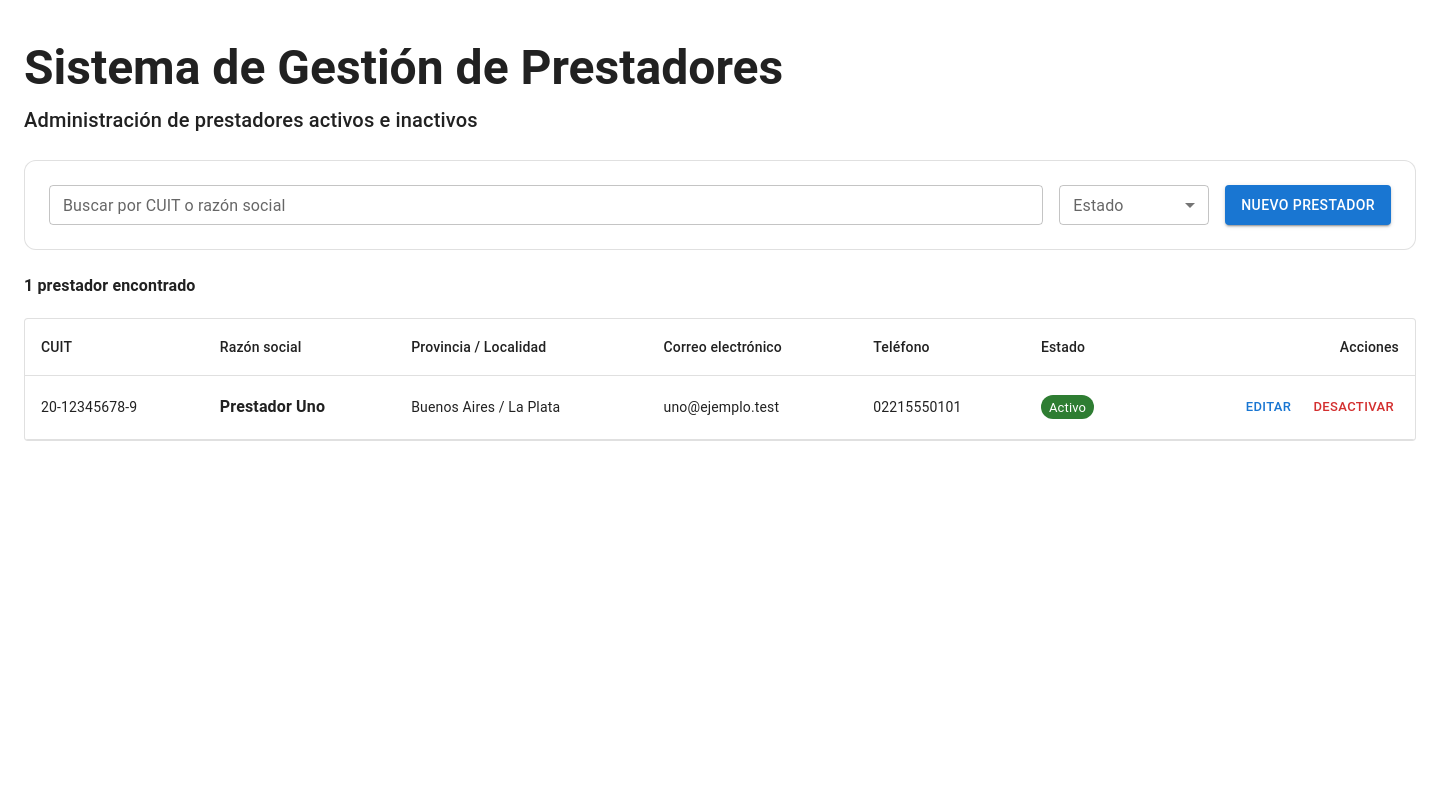
Gestión de prestadores › abre edición con valores precargados
The width and height of the screenshot is (1440, 810).
Check: the text "1 prestador encontrado" is shown, box [24,276,196,295]
What coordinates should you click on to do the following:
click the button with aria-label "Editar Prestador Uno"
I would click on:
 (1268, 407)
Its box is [1236,392,1300,423].
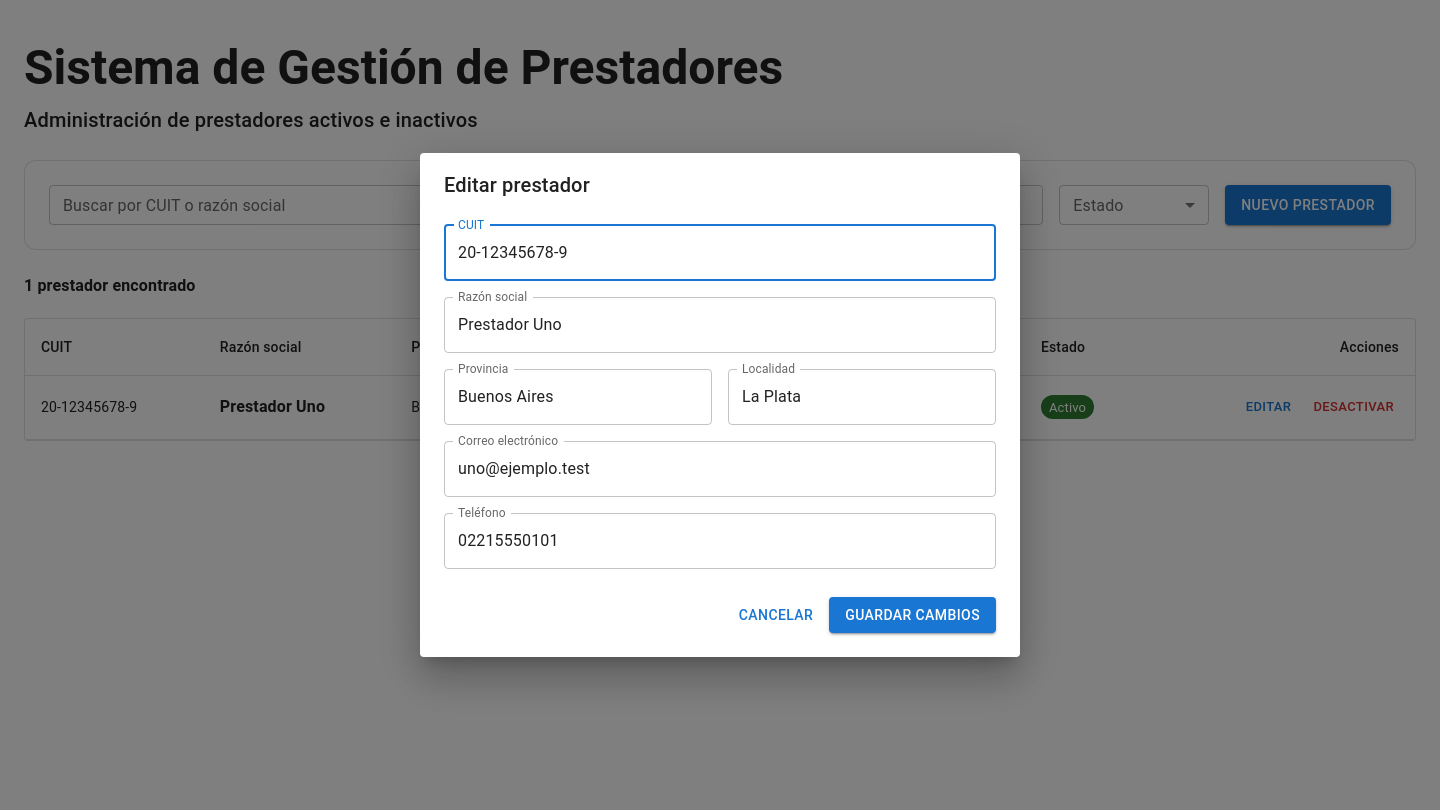
Check: the field labelled "CUIT" holds "20-12345678-9", box [444,225,996,281]
Check: the field labelled "Razón social" holds "Prestador Uno", box [444,297,996,353]
Check: the field labelled "Teléfono" holds "02215550101", box [444,513,996,569]
